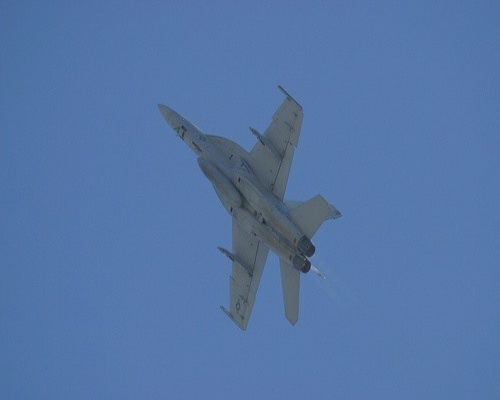plane: (151, 85, 344, 330)
